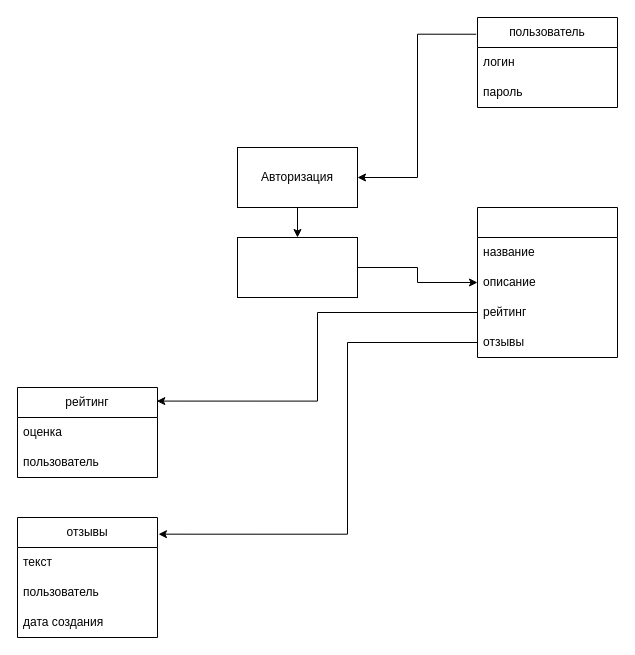
Some shapes in this 635 by 655 pixel diagram are drawn without their labels. The box of each missing label's shape, as (x1, y1, x2, y2) in pixels:
Ресторан: (476, 206, 618, 358)
Таблица с ресторанами: (236, 236, 358, 298)
